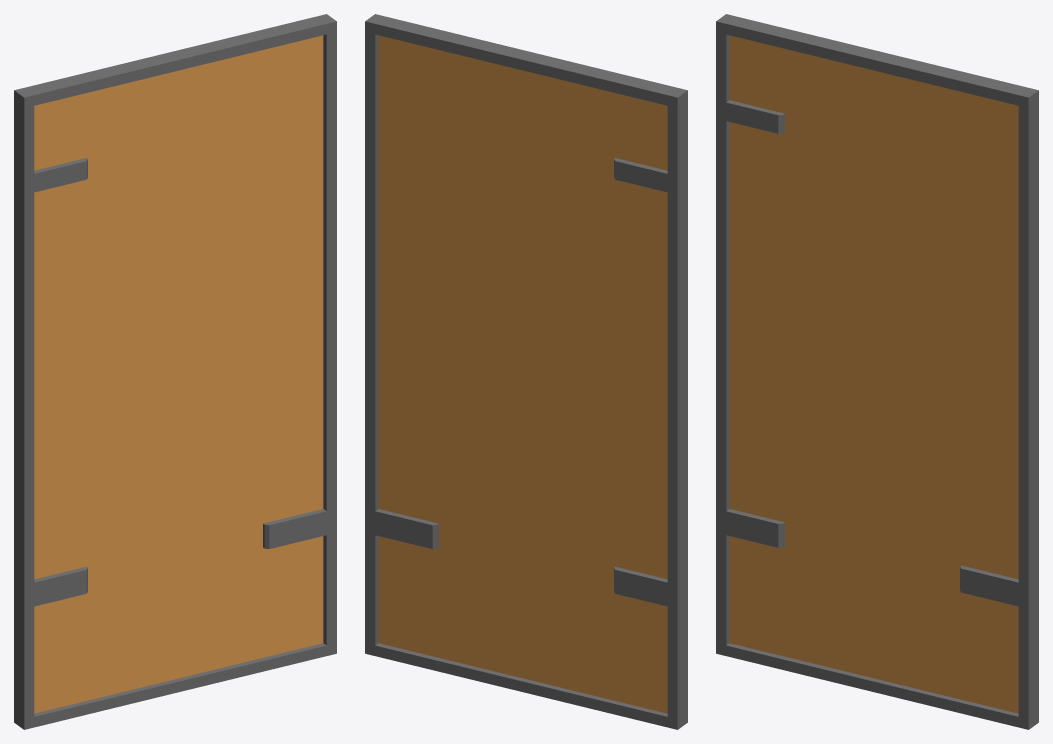
The model's file is truck_door_x.fbx.
3 renders of one model, left to right at view 1: azimuth 30°, elevation 25°; view 2: azimuth 150°, elevation 25°; view 3: azimuth 330°, elevation 25°, orthographic.
Visible parts, largest first — view 1: Plane.137; view 2: Plane.137; view 3: Plane.137.
Part boxes in pixels (x1,y1,x2,y2): Plane.137: (14, 14, 336, 729); Plane.137: (365, 14, 687, 729); Plane.137: (716, 14, 1038, 729).
Bounding box in the file's own units: 70.23 × 136 × 3.93.
